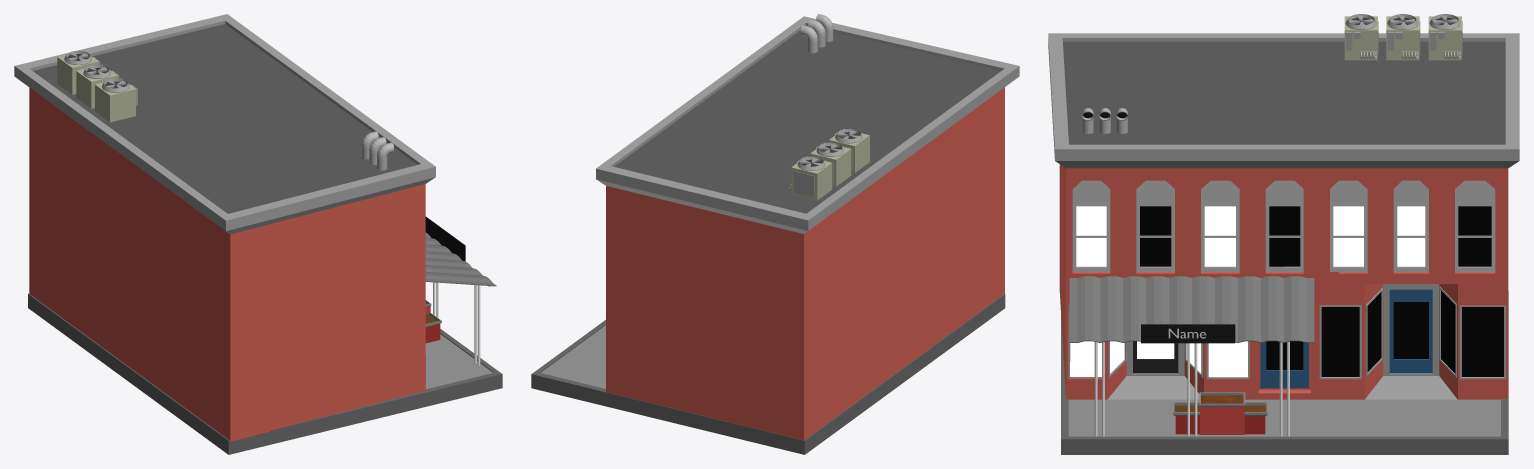
File: restaurant.glb
3 views of the same model, side by side, from view 1: azimuth 30°, elevation 25°; view 2: azimuth 150°, elevation 25°; view 3: azimuth 270°, elevation 25° (orthographic). The views are drawn at different scales.
Parts seen in each view (by area): view 1: Cube, Cube.001, Plane, Plane.001, Cube.005, Cube.003, Cube.004, Cylinder.004, Plane.002, Cylinder.002, Cube.002; view 2: Cube, Cube.001, Plane, Cube.003, Cube.004, Cube.005, Cylinder.004; view 3: Cube, Plane.001, Plane, Cube.001, Cube.002, Plane.002, Cube.004, Cube.003, Cube.005, Cylinder.004, Cylinder.001, Cylinder.002 (+1 smaller).
Boxes of the visible parts, box(x1,y1,x2,y2) form: Cube: box(14, 14, 435, 441); Cube.001: box(28, 293, 502, 454); Plane: box(425, 334, 492, 389); Plane.001: box(425, 232, 496, 286); Cube.005: box(95, 78, 137, 122); Cube.003: box(57, 50, 100, 94); Cube.004: box(76, 64, 119, 108); Cylinder.004: box(361, 131, 393, 170); Plane.002: box(425, 216, 465, 261); Cylinder.002: box(474, 285, 480, 365); Cube.002: box(425, 300, 441, 343); Cube: box(596, 16, 1019, 440); Cube.001: box(531, 294, 1005, 454); Plane: box(541, 325, 605, 388); Cube.003: box(789, 156, 832, 200); Cube.004: box(810, 142, 851, 186); Cube.005: box(829, 129, 869, 172); Cylinder.004: box(800, 14, 833, 53); Cube: box(1048, 33, 1519, 399); Plane.001: box(1069, 276, 1314, 342); Plane: box(1068, 399, 1500, 436); Cube.001: box(1061, 290, 1508, 454); Cube.002: box(1173, 392, 1267, 434); Plane.002: box(1141, 324, 1235, 343); Cube.004: box(1386, 14, 1420, 60); Cube.003: box(1428, 14, 1462, 60); Cube.005: box(1344, 14, 1378, 60); Cylinder.004: box(1082, 108, 1127, 133); Cylinder.001: box(1279, 341, 1289, 436); Cylinder.002: box(1094, 342, 1104, 436).
Bounding box in the file's own units: 22.8 × 20.64 × 29.56.
